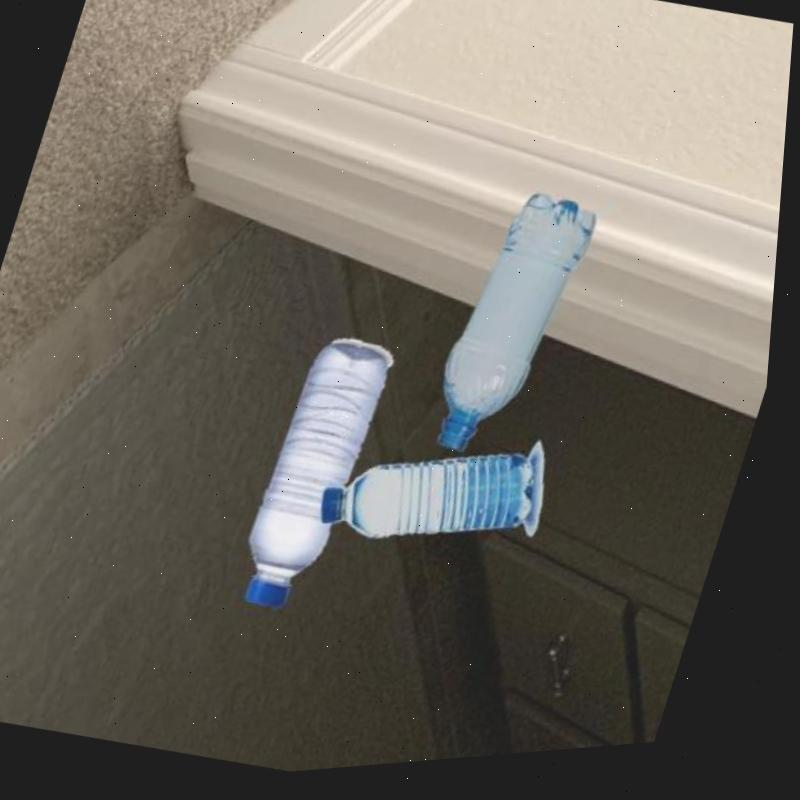botella: (426, 188, 606, 477), (237, 337, 402, 624), (317, 414, 557, 587)
